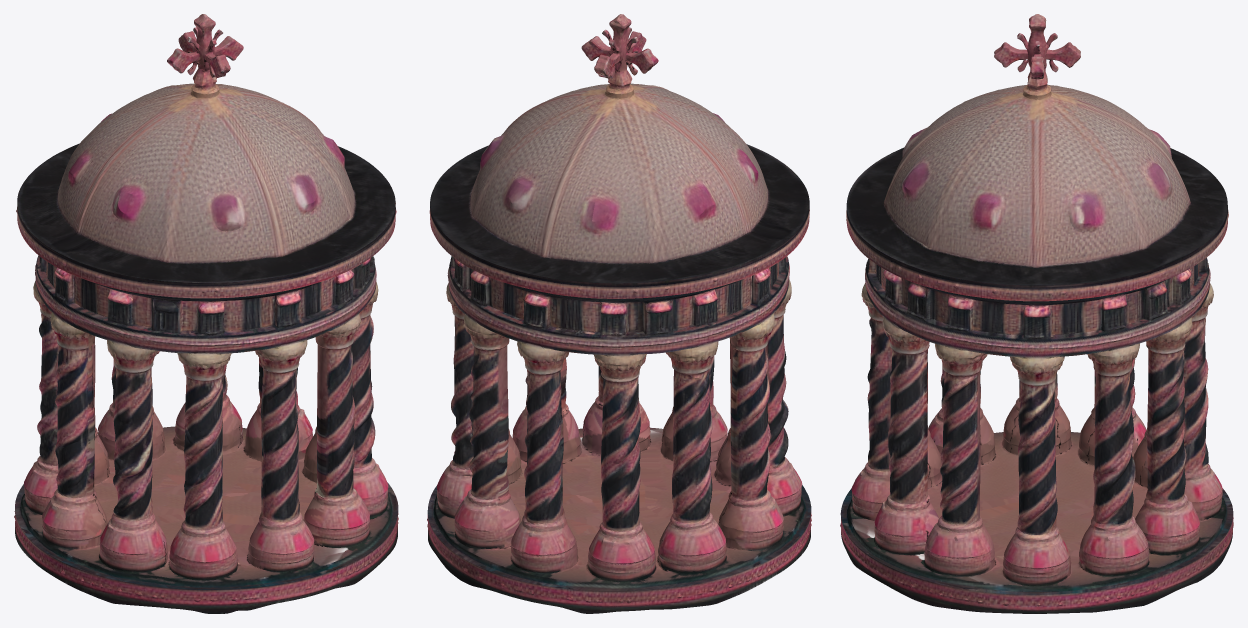
Rendered from rook_black.glb.
The picture shows the model from 3 angles, left to right: view 1: azimuth 30°, elevation 25°; view 2: azimuth 150°, elevation 25°; view 3: azimuth 270°, elevation 25°; orthographic projection.
Parts seen in each view (by area): view 1: model; view 2: model; view 3: model.
Part boxes in pixels (x1,y1,x2,y2): model: [14, 14, 398, 613]; model: [427, 14, 811, 613]; model: [840, 14, 1233, 613].
Bounding box in the file's own units: 1.27 × 1.9 × 1.3.
Materials: 1 (1 with a texture image).
